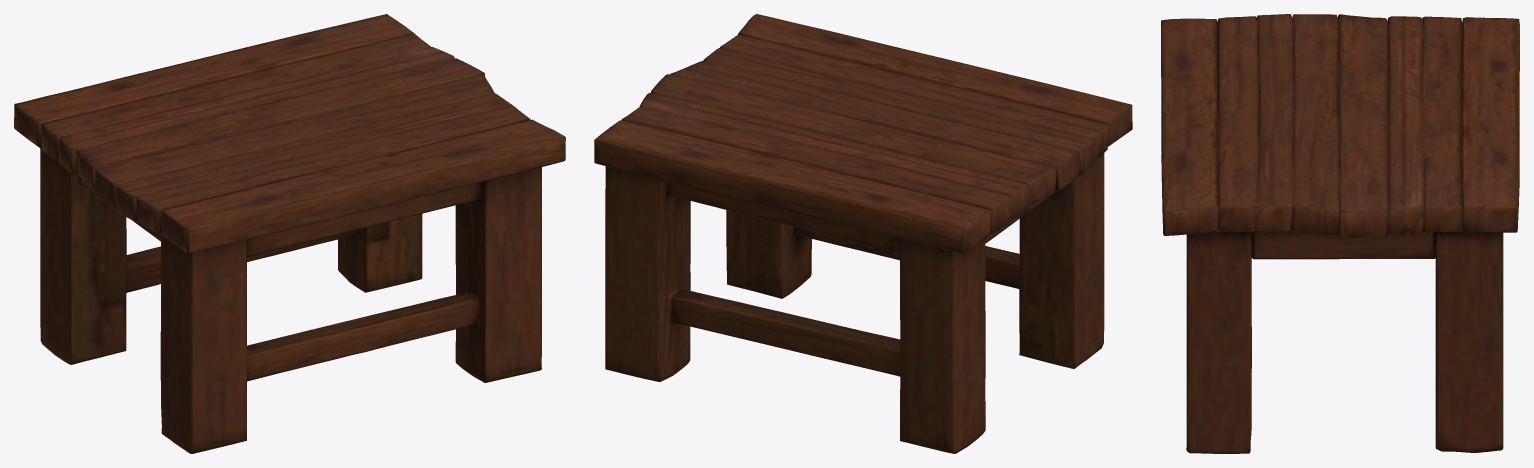
The model's file is stool.glb.
3 renders of one model, left to right at view 1: azimuth 30°, elevation 25°; view 2: azimuth 150°, elevation 25°; view 3: azimuth 270°, elevation 25°, orthographic. The views are drawn at different scales.
Parts seen in each view (by area): view 1: model; view 2: model; view 3: model.
Part boxes in pixels (<box>): model: <box>14,14,565,453</box>; model: <box>594,14,1132,453</box>; model: <box>1161,14,1519,453</box>.
Size of the model in its own units: 2 by 1.18 by 1.52.
1 material, 1 textured.
